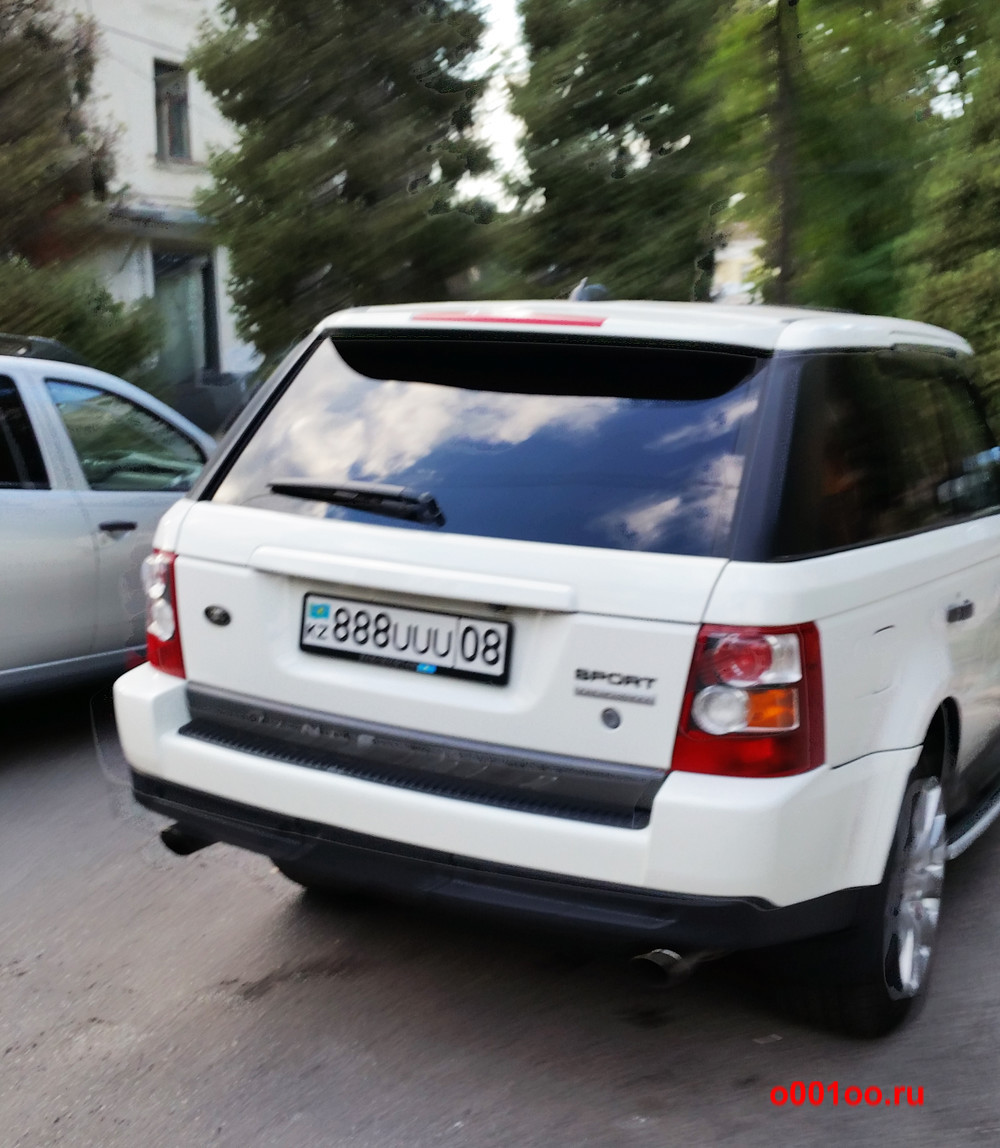license_plate: (305, 591, 505, 682)
